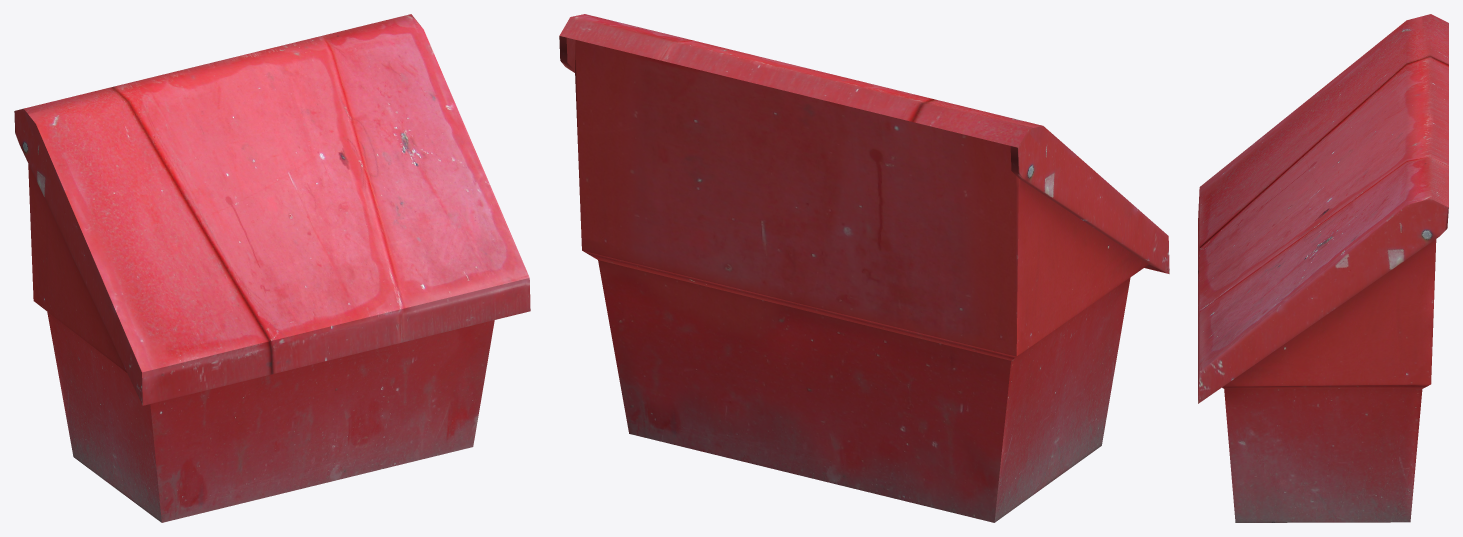
The model's file is bin1.fbx.
3 views of the same model, side by side, from view 1: azimuth 30°, elevation 25°; view 2: azimuth 150°, elevation 25°; view 3: azimuth 270°, elevation 25° (orthographic). The views are drawn at different scales.
Parts seen in each view (by area): view 1: bin1; view 2: bin1; view 3: bin1.
Boxes of the visible parts, left/top/right/bottom form: bin1: left=14, top=14, right=530, bottom=522; bin1: left=559, top=14, right=1169, bottom=522; bin1: left=1198, top=14, right=1448, bottom=522.
Bounding box in the file's own units: 128 × 73.59 × 111.
